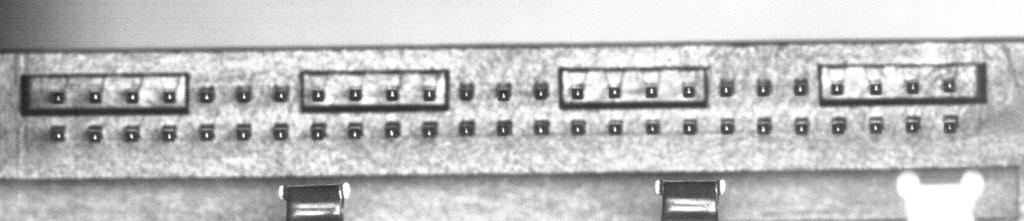pin_ok: (384, 120, 402, 139), (421, 120, 439, 138), (458, 81, 475, 100), (533, 80, 549, 100), (235, 84, 252, 102), (868, 116, 885, 134), (160, 124, 177, 142), (272, 84, 289, 102), (310, 122, 327, 140), (942, 115, 959, 133), (272, 123, 289, 141), (458, 119, 476, 136), (347, 121, 364, 139), (495, 83, 512, 101), (123, 125, 140, 142), (198, 124, 215, 141), (198, 86, 215, 103), (86, 126, 103, 143), (49, 124, 66, 141), (831, 116, 847, 134), (794, 117, 810, 135), (756, 117, 772, 135), (905, 115, 921, 133), (236, 122, 252, 140), (793, 77, 809, 95), (719, 79, 736, 95), (570, 119, 587, 135), (534, 119, 551, 135), (496, 119, 512, 135), (756, 79, 771, 96), (941, 77, 956, 93), (569, 85, 585, 100), (720, 118, 735, 134), (682, 119, 698, 134), (608, 119, 623, 135), (645, 119, 661, 134), (422, 86, 437, 101), (905, 79, 919, 94), (49, 90, 64, 104), (348, 87, 362, 101), (385, 87, 399, 101), (162, 89, 176, 103), (311, 88, 325, 102), (644, 84, 658, 98), (682, 84, 696, 98), (607, 84, 621, 98), (830, 82, 844, 95), (869, 82, 882, 95), (88, 90, 101, 103), (126, 90, 139, 103)
